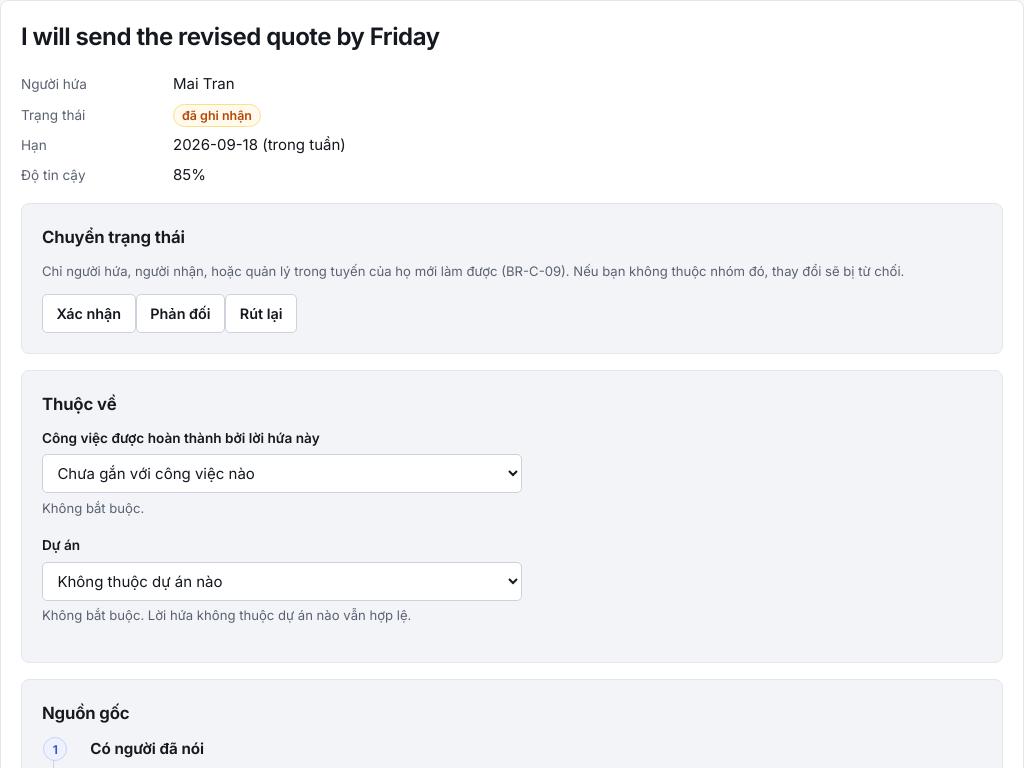
Test: CommitmentDetail › explains a refusal by rule rather than swallowing it
Click the button "Xác nhận" at (89, 314), box left=42, top=294, right=136, bottom=333
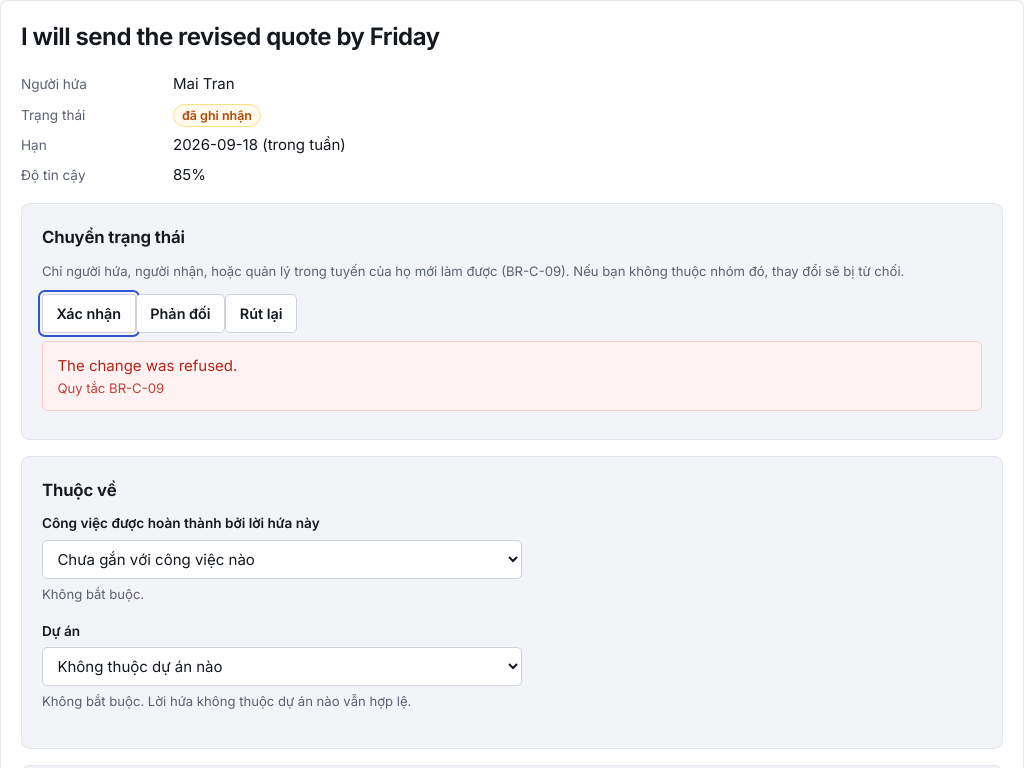
Expected: the message shows "BR-C-09", left=109, top=380, right=164, bottom=396
